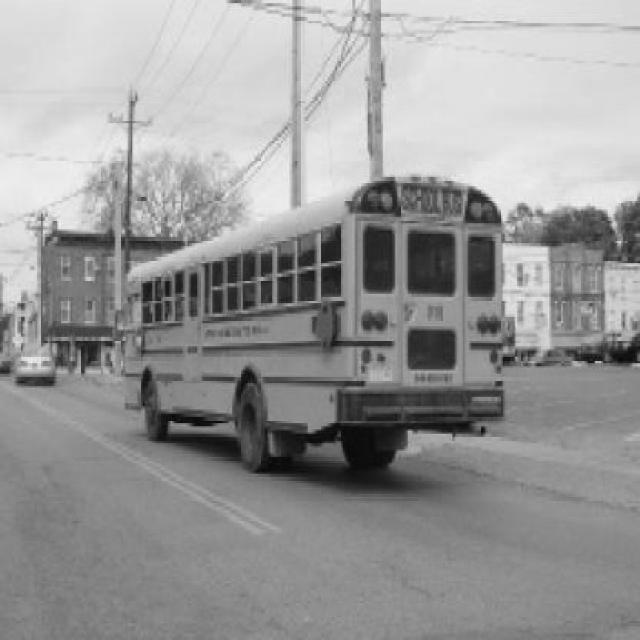Bus: (121, 174, 506, 474)
